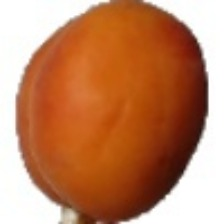apricot: (6, 28, 200, 224)
